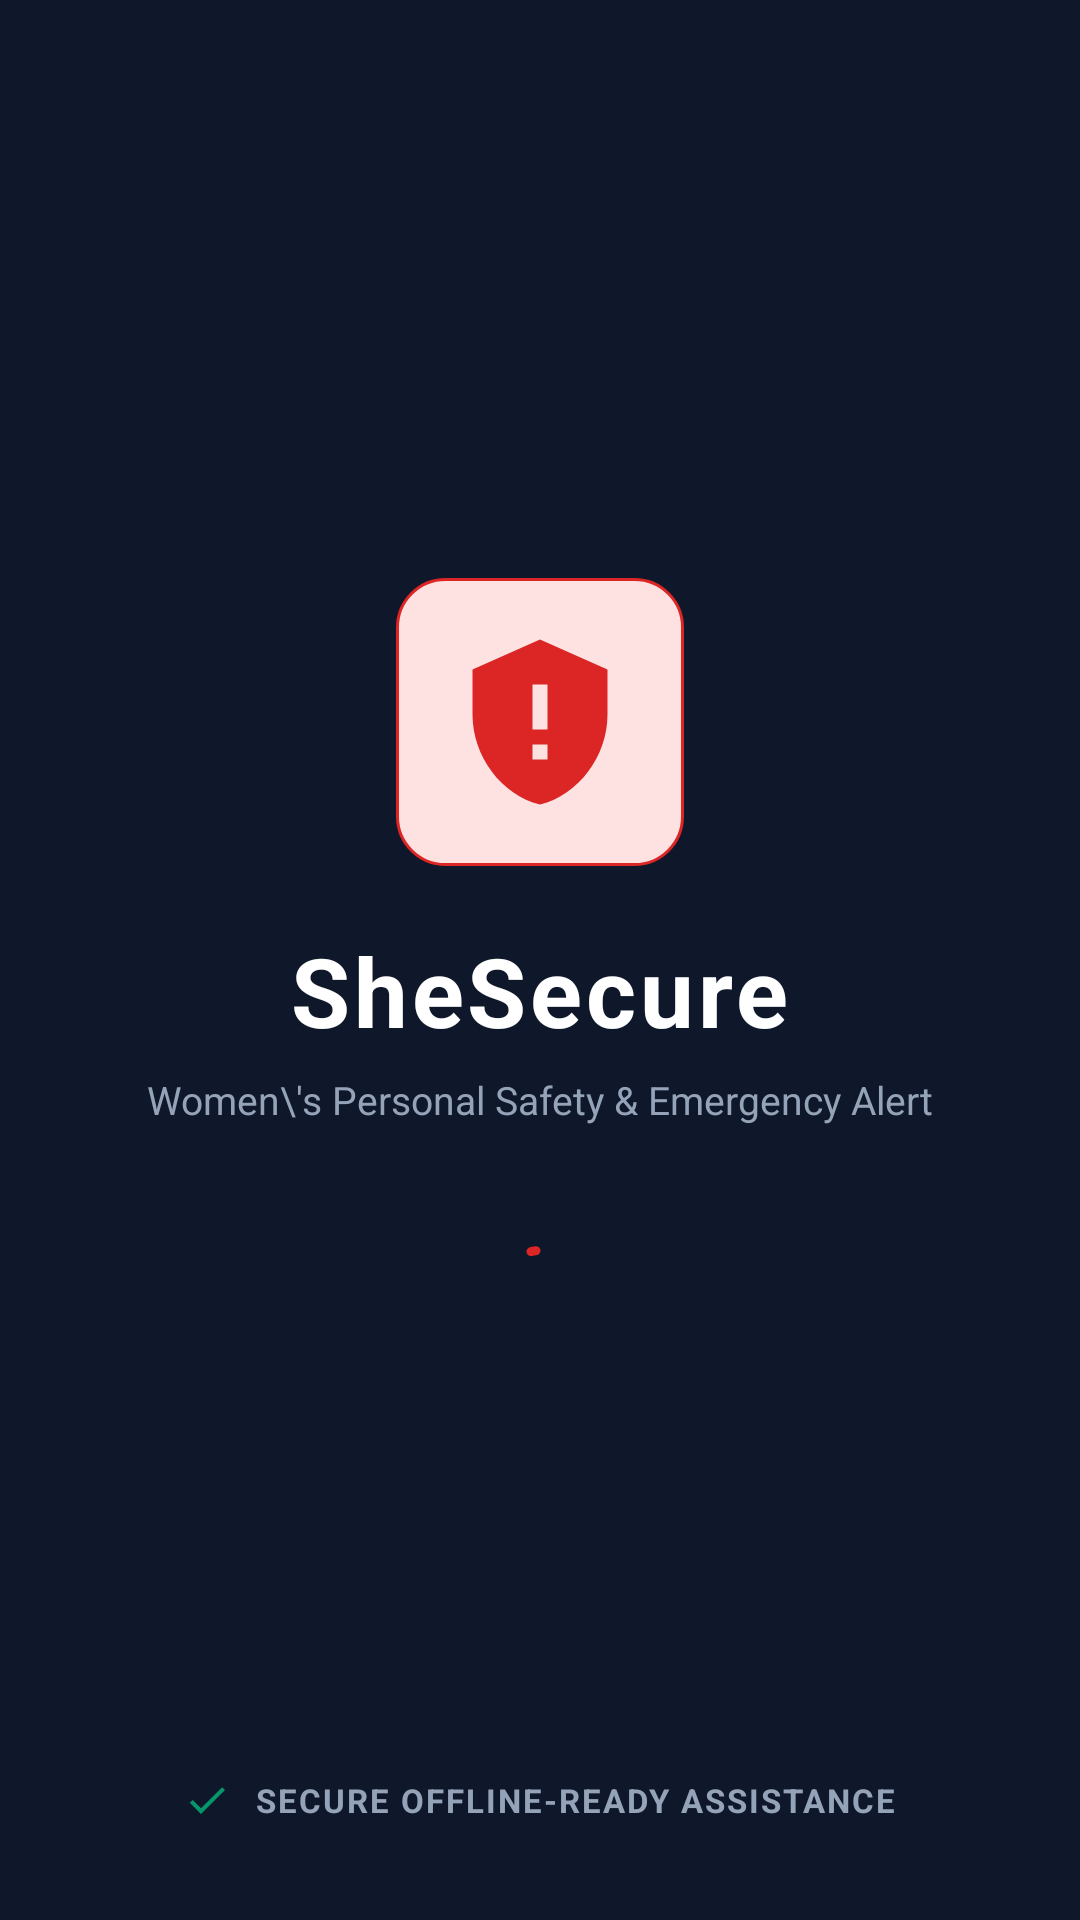

Point at icon controls on the screen. Image size 1080x1920, points as [x,y].
shield alert: [540,722]
Verified: [207,1800]
